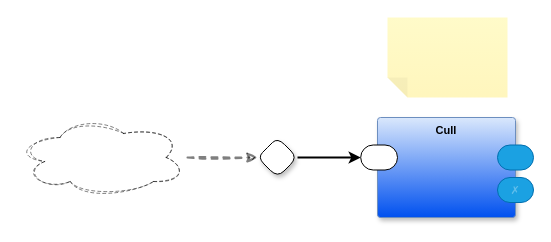
Some shapes in this 551 by 242 pixel diagram are drawn without their labels. Here are the shapes that lost their labels. From the top down, the centre of each, then its label:
At point (447, 57): "Remove XML information that pertains only to graphics".
At point (102, 157): "neva-sample.drawio".
